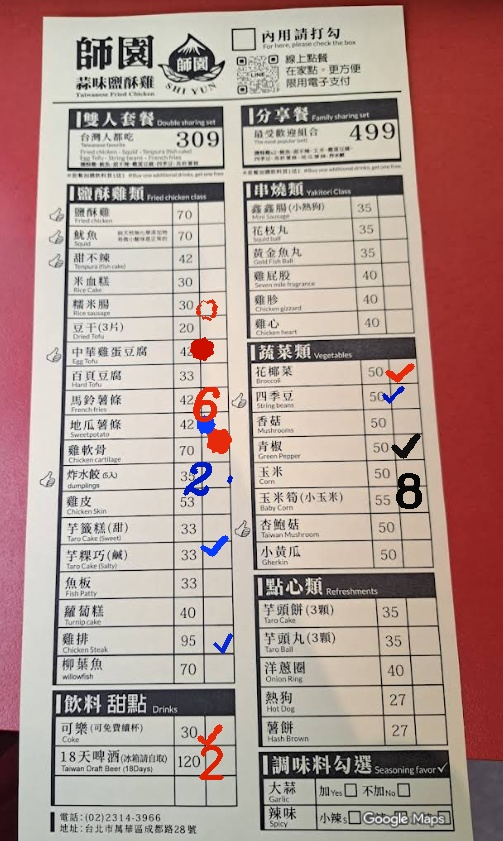marked_circle: (198, 340, 227, 363), (200, 413, 229, 436), (200, 437, 229, 460)
marked_hollow: (196, 292, 225, 315)
marked_number_2: (206, 745, 237, 773), (200, 462, 229, 485)
marked_number_6: (199, 389, 228, 412)
marked_number_8: (397, 487, 428, 515)
marked_tick: (203, 627, 232, 657), (392, 431, 423, 459), (205, 716, 236, 744), (388, 383, 417, 406), (387, 358, 416, 381), (202, 542, 231, 565)
